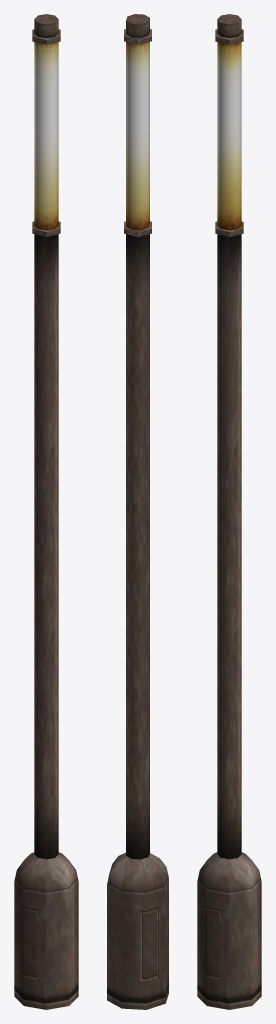
File: light_post.fbx
The picture shows the model from 3 angles, left to right: view 1: azimuth 90°, elevation 25°; view 2: azimuth 150°, elevation 25°; view 3: azimuth 270°, elevation 25°; orthographic projection.
Parts seen in each view (by area): view 1: mesh_0; view 2: mesh_0; view 3: mesh_0.
Part boxes in pixels (<box>): mesh_0: <box>14,14,78,1009</box>; mesh_0: <box>107,14,168,1009</box>; mesh_0: <box>197,14,261,1009</box>.
Size of the model in its own units: 30.24 by 509 by 30.24.
Materials: 1 (1 with a texture image).
